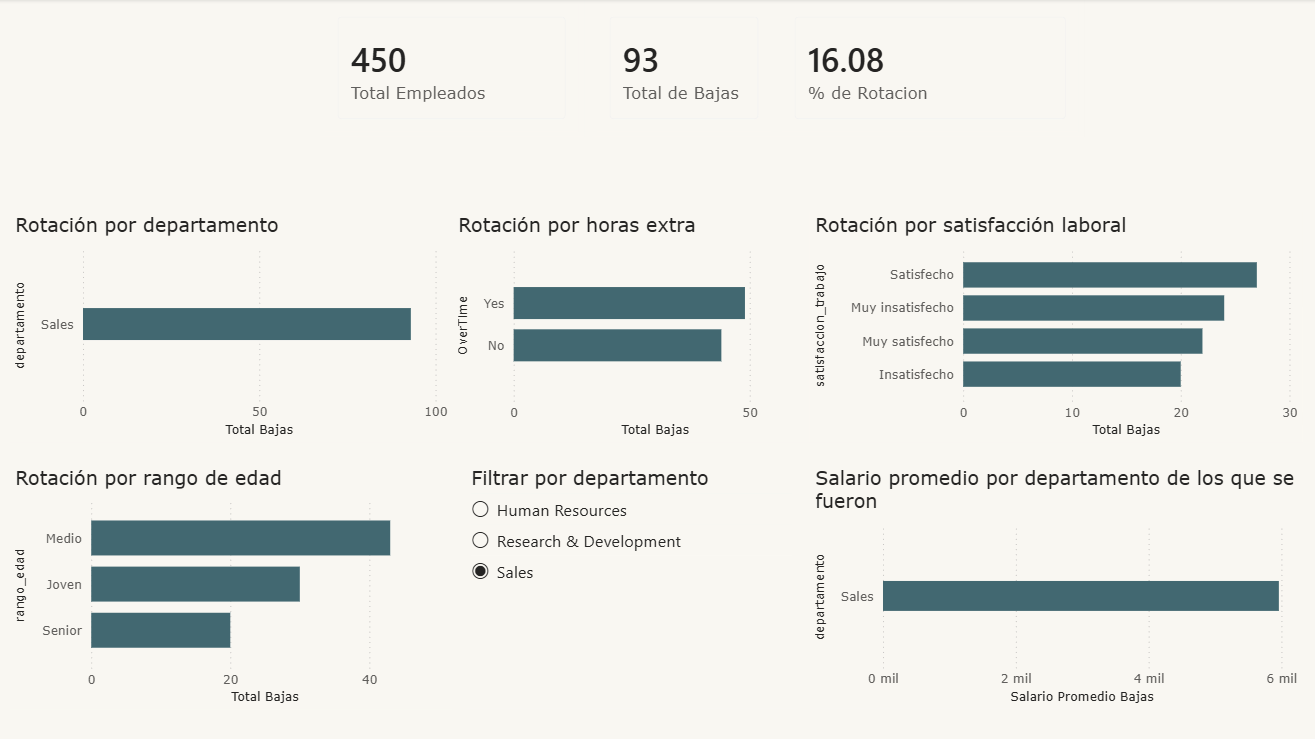

This screenshot's page, from the dashboard's own definition file:
{"tool":"powerbi","page":{"name":"Página 1","canvas":[1280,720],"ordinal":0},"visuals":[{"type":"cardVisual","fields":{"Data":["CountNonNull(hr_analytics vista_empleados.id_empleado)"]},"box":[312.2,0,256.8,134.2],"z":0},{"type":"cardVisual","fields":{"Data":["hr_analytics vista_empleados.Total Bajas"]},"box":[576.8,0,179.9,134.2],"z":1000},{"type":"cardVisual","fields":{"Data":["Avg(hr_analytics vista_empleados.% Rotacion)"]},"box":[756.7,0,298.6,134.2],"z":2000},{"type":"clusteredBarChart","title":"Rotación por departamento","fields":{"Y":["hr_analytics vista_empleados.Total Bajas"],"Category":["hr_analytics vista_empleados.departamento"]},"box":[10.7,207.2,430.9,223.7],"z":3000},{"type":"clusteredBarChart","title":"Rotación por horas extra","fields":{"Y":["hr_analytics vista_empleados.Total Bajas"],"Category":["hr_analytics vista_empleados.OverTime"]},"box":[441.7,207.2,347.5,224],"z":4000},{"type":"clusteredBarChart","title":"Rotación por satisfacción laboral","fields":{"Category":["hr_analytics vista_empleados.satisfaccion_trabajo"],"Y":["hr_analytics vista_empleados.Total Bajas"]},"box":[789.1,207.2,479.3,224],"z":5000},{"type":"clusteredBarChart","title":"Rotación por rango de edad","fields":{"Category":["hr_analytics vista_empleados.rango_edad"],"Y":["hr_analytics vista_empleados.Total Bajas"]},"box":[10.5,453.2,430.2,237.6],"z":6000},{"type":"clusteredBarChart","title":"Salario promedio por departamento de los que se fueron","fields":{"Category":["hr_analytics vista_empleados.departamento"],"Y":["hr_analytics vista_empleados.Salario Promedio Bajas"]},"box":[788.8,453.3,479.5,237.3],"z":7000},{"type":"listSlicer","fields":{"Values":["hr_analytics vista_empleados.departamento"]},"box":[454.2,453.3,322.9,237.3],"z":8000}]}

Visuals, with their boxes in screenshot pixels (x1, y1, x2, y2), scaled from the page's 1280x720 canvas onto the 1315x739 screenshot:
cardVisual - CountNonNull(hr_analytics vista_empleados.id_empleado): [321, 0, 585, 138]
cardVisual - hr_analytics vista_empleados.Total Bajas: [593, 0, 777, 138]
cardVisual - Avg(hr_analytics vista_empleados.% Rotacion): [777, 0, 1084, 138]
"Rotación por departamento" clusteredBarChart: [11, 213, 454, 442]
"Rotación por horas extra" clusteredBarChart: [454, 213, 811, 443]
"Rotación por satisfacción laboral" clusteredBarChart: [811, 213, 1303, 443]
"Rotación por rango de edad" clusteredBarChart: [11, 465, 453, 709]
"Salario promedio por departamento de los que se fueron" clusteredBarChart: [810, 465, 1303, 709]
listSlicer - hr_analytics vista_empleados.departamento: [467, 465, 798, 709]
